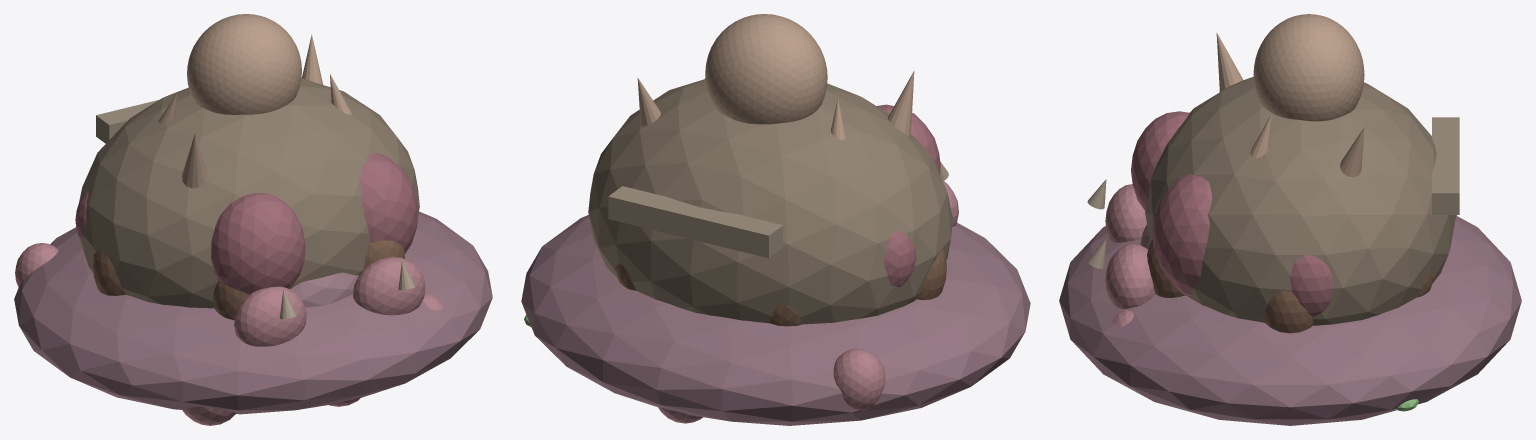
Rendered from zglengo_brood_hive.glb.
3 renders of one model, left to right at view 1: azimuth 30°, elevation 25°; view 2: azimuth 150°, elevation 25°; view 3: azimuth 270°, elevation 25°, orthographic. The views are drawn at different scales.
Visible parts, largest first — view 1: base_hive, main_dome, royal_apex, breathe_sac_2, breathe_sac_3, brood_maw_lobe_0, brood_maw_lobe_1, inner_body, ridge_0, bubo_0, hive_buttress_3, hive_buttress_2 (+4 smaller); view 2: main_dome, base_hive, royal_apex, ridge_0, bubo_0, breathe_sac_0, royal_spire_1, hive_buttress_3, breathe_sac_2, royal_spire_2, hive_buttress_4; view 3: main_dome, base_hive, royal_apex, breathe_sac_3, ridge_0, brood_maw_lobe_1, breathe_sac_2, breathe_sac_1, brood_maw_lobe_0, hive_buttress_0, hive_buttress_1, royal_spire_1 (+2 smaller).
Part boxes in pixels (x1=…): base_hive: x1=14, y1=211, x2=492, y2=414; main_dome: x1=79, y1=78, x2=419, y2=308; royal_apex: x1=187, y1=14, x2=301, y2=114; breathe_sac_2: x1=211, y1=193, x2=305, y2=294; breathe_sac_3: x1=359, y1=153, x2=418, y2=253; brood_maw_lobe_0: x1=234, y1=286, x2=306, y2=346; brood_maw_lobe_1: x1=353, y1=257, x2=425, y2=315; inner_body: x1=290, y1=272, x2=358, y2=307; ridge_0: x1=96, y1=99, x2=159, y2=143; bubo_0: x1=15, y1=243, x2=58, y2=287; hive_buttress_3: x1=93, y1=251, x2=125, y2=295; hive_buttress_2: x1=213, y1=281, x2=249, y2=320; main_dome: x1=588, y1=79, x2=952, y2=324; base_hive: x1=521, y1=215, x2=1030, y2=425; royal_apex: x1=705, y1=14, x2=827, y2=124; ridge_0: x1=608, y1=186, x2=783, y2=258; bubo_0: x1=833, y1=348, x2=885, y2=410; breathe_sac_0: x1=884, y1=230, x2=916, y2=287; royal_spire_1: x1=887, y1=71, x2=914, y2=136; hive_buttress_3: x1=917, y1=249, x2=946, y2=299; breathe_sac_2: x1=877, y1=104, x2=940, y2=174; royal_spire_2: x1=637, y1=78, x2=660, y2=126; hive_buttress_4: x1=770, y1=305, x2=802, y2=326; main_dome: x1=1145, y1=76, x2=1456, y2=325; base_hive: x1=1059, y1=215, x2=1521, y2=425; royal_apex: x1=1253, y1=14, x2=1364, y2=121; breathe_sac_3: x1=1152, y1=174, x2=1211, y2=296; ridge_0: x1=1432, y1=117, x2=1459, y2=214; brood_maw_lobe_1: x1=1105, y1=243, x2=1155, y2=308; breathe_sac_2: x1=1131, y1=111, x2=1189, y2=210; breathe_sac_1: x1=1290, y1=255, x2=1332, y2=316; brood_maw_lobe_0: x1=1105, y1=184, x2=1146, y2=242; hive_buttress_0: x1=1264, y1=290, x2=1313, y2=333; hive_buttress_1: x1=1147, y1=239, x2=1184, y2=297; royal_spire_1: x1=1216, y1=32, x2=1243, y2=91.
Bounding box in the file's own units: 2.92 × 2.22 × 2.68.
